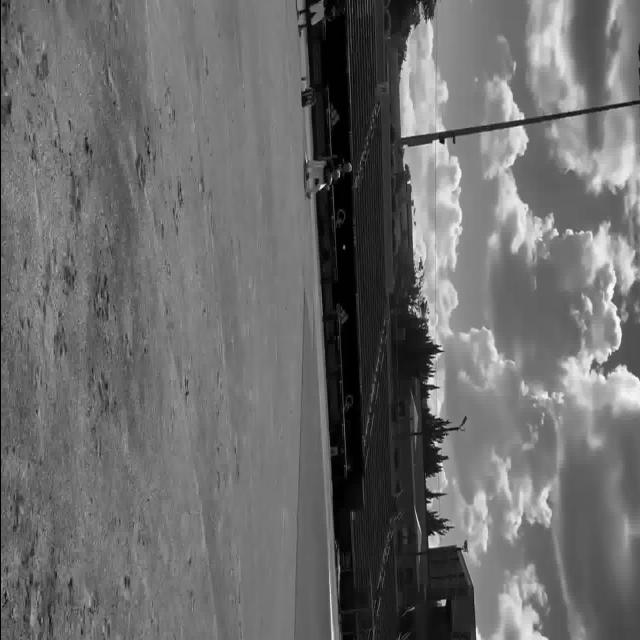baseball: (341, 244, 345, 251)
